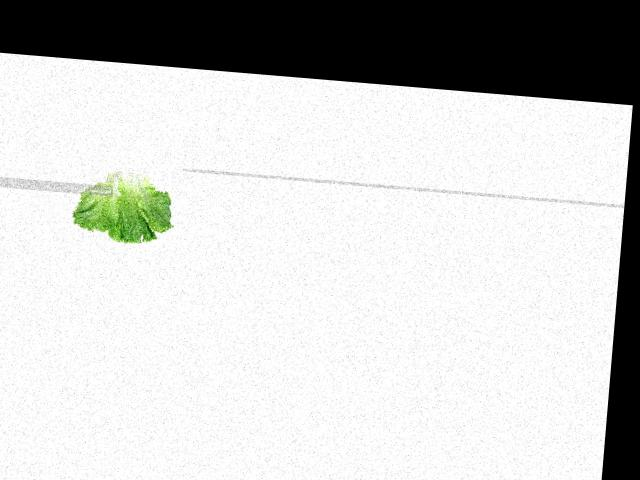lettuce: (74, 165, 176, 245)
